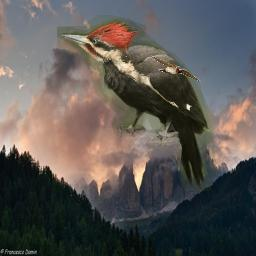Swallow: (148, 54, 201, 81)
Woodpecker: (57, 15, 220, 191)
